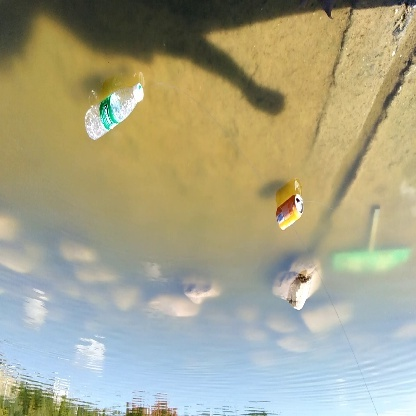bottle: (81, 81, 148, 142), (272, 193, 309, 235)
